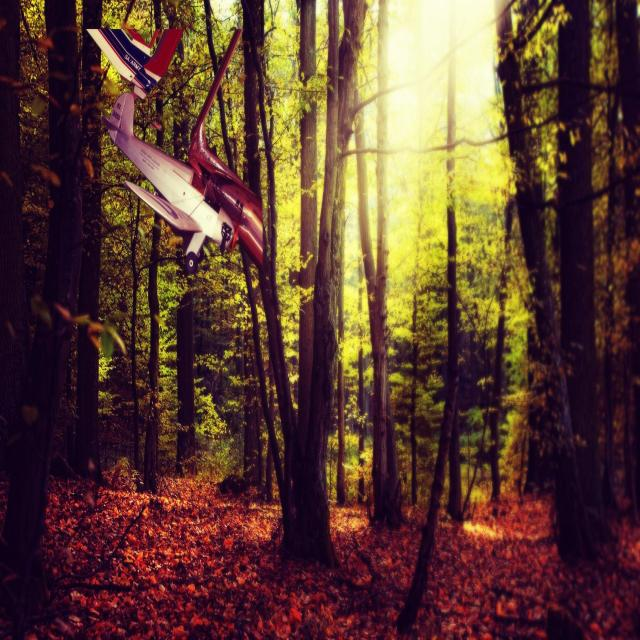airplane: (101, 26, 266, 276), (85, 24, 184, 100)
